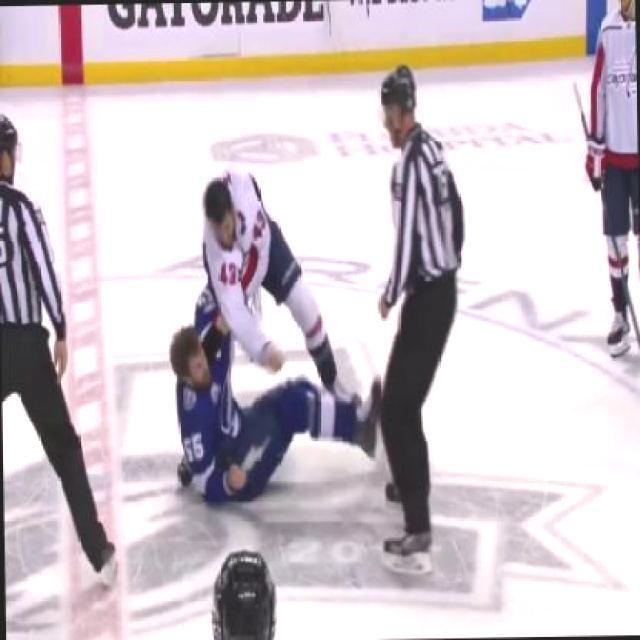fight: (165, 168, 350, 496)
